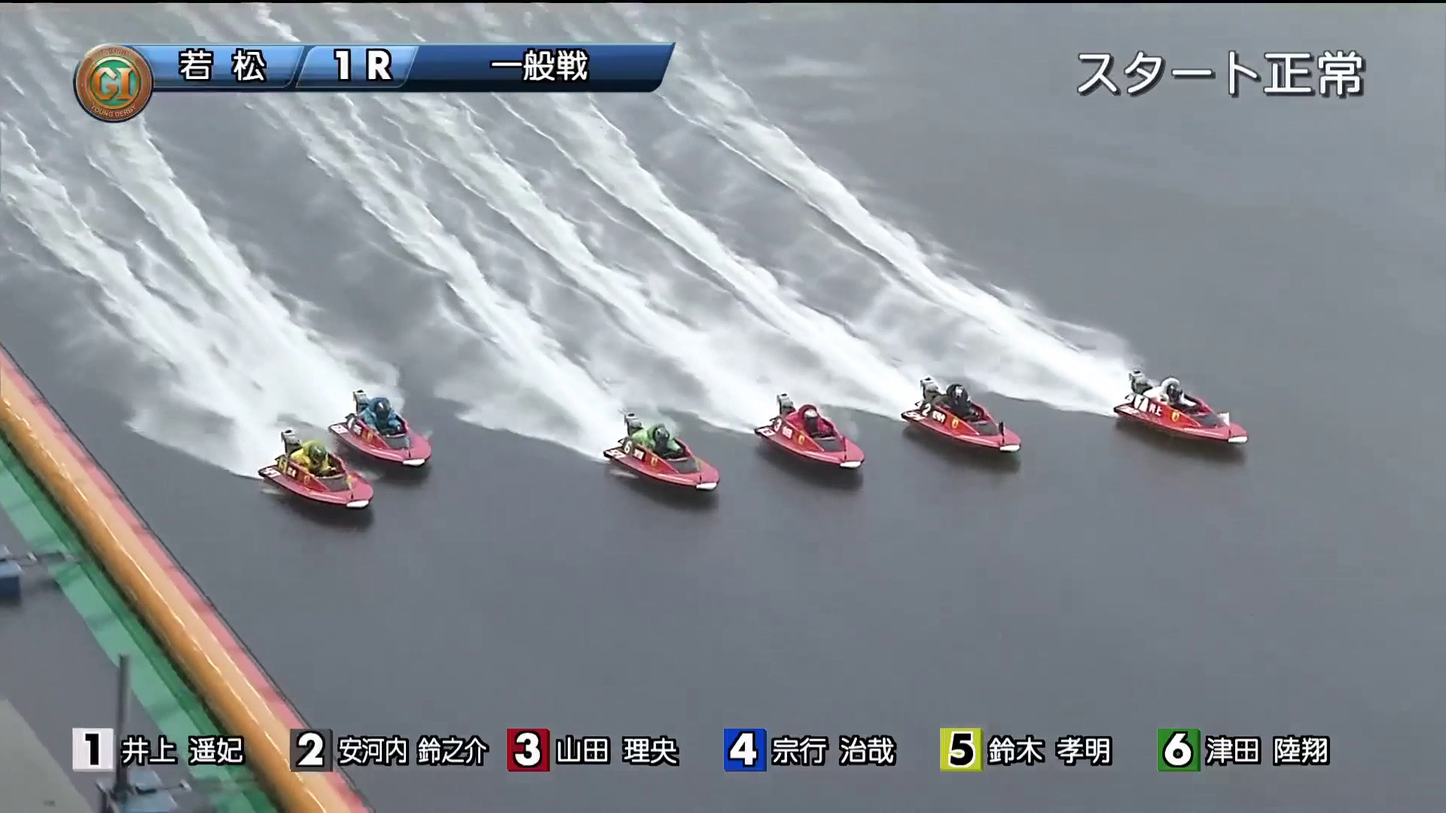１号艇: (1131, 367, 1246, 415)
２号艇: (914, 381, 1025, 431)
３号艇: (764, 425, 883, 467)
４号艇: (626, 439, 739, 495)
５号艇: (339, 414, 461, 469)
６号艇: (301, 480, 401, 537)
